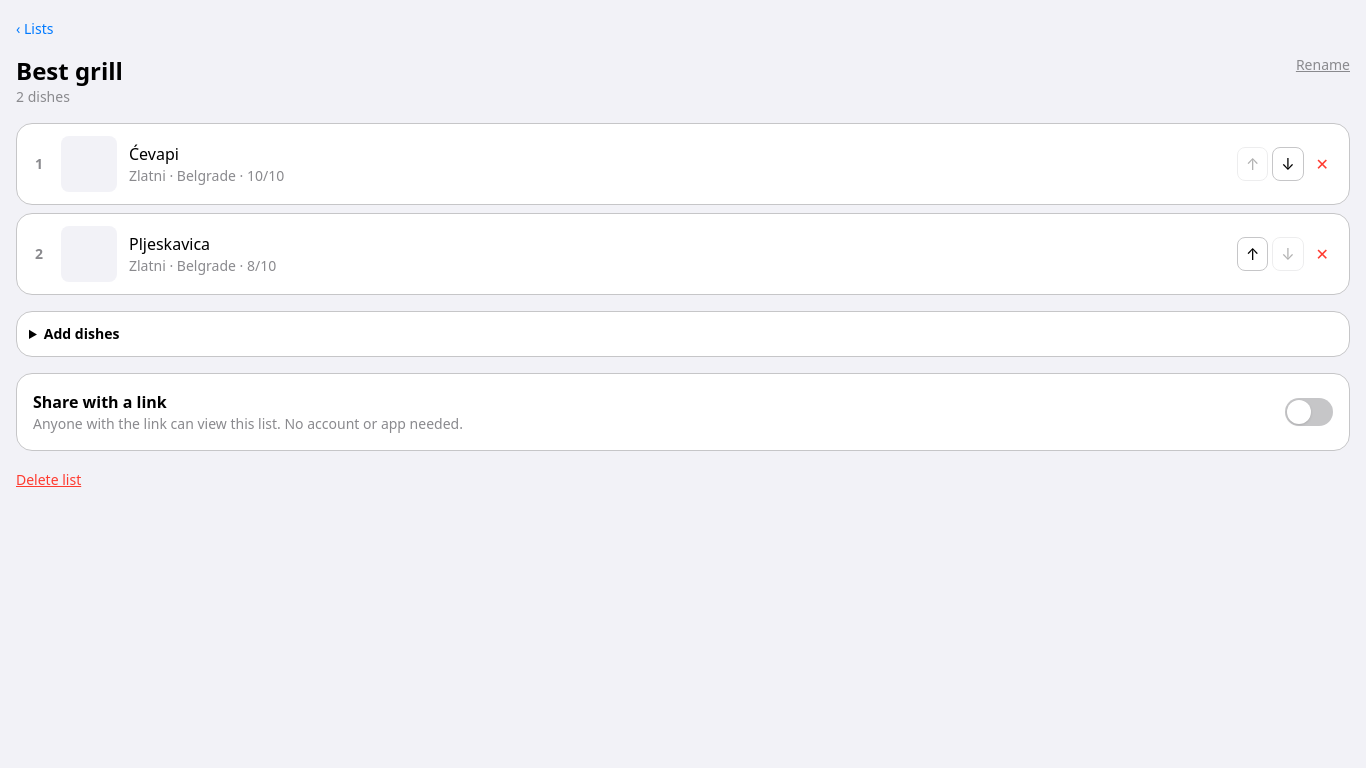
ListDetailPage: the dishes › offers only dishes that are not in the list yet, and adds one at the end
Later steps or results of the test are not shown.
expect the heading "Best grill" is shown: met, box [16,55,123,87]
Click the heading "Add dishes" at coordinates (82, 334), box [44,324,119,343]
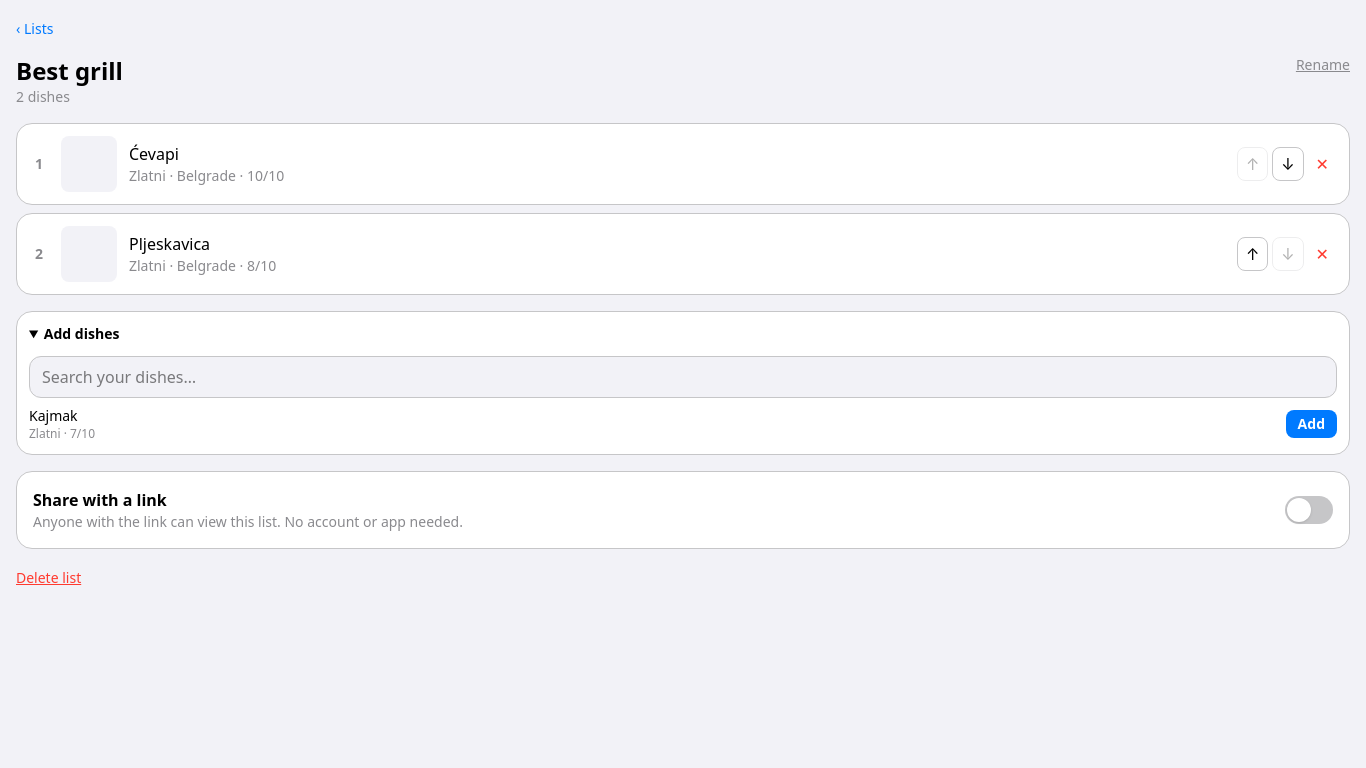
expect the button with aria-label "Add Kajmak" is shown: met, box [1286,410,1337,438]
